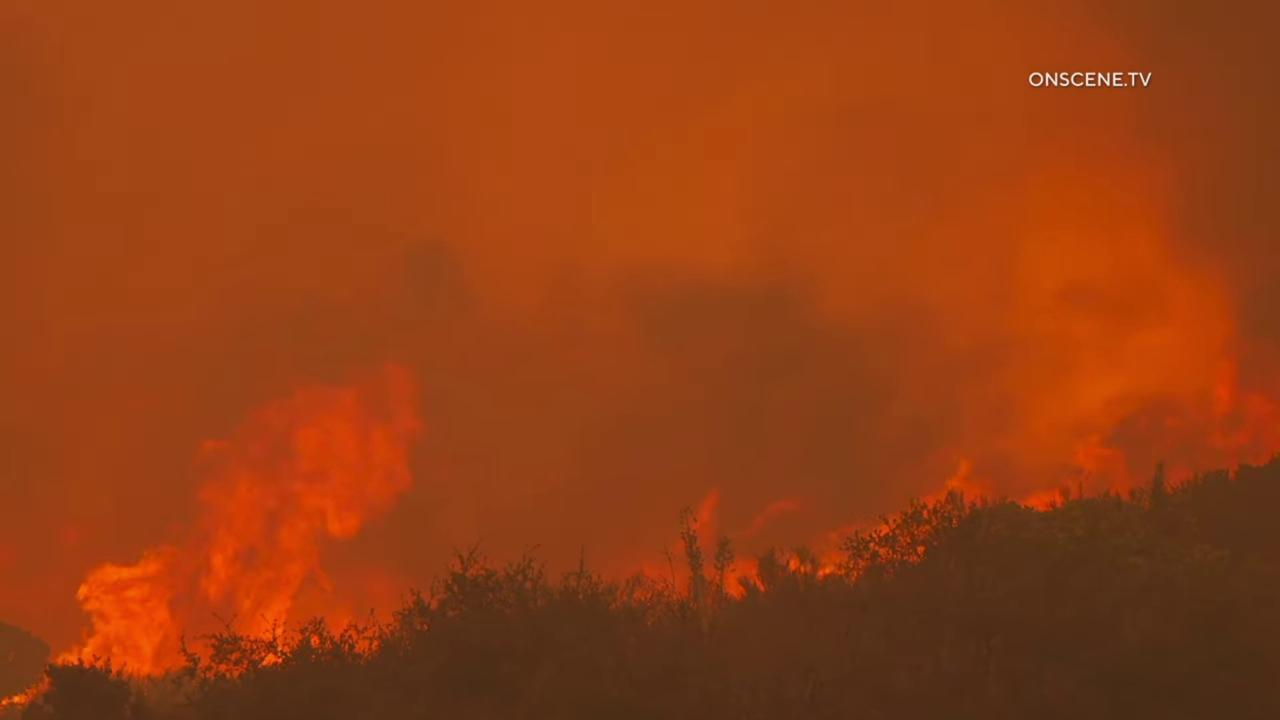fire: (0, 358, 447, 708), (615, 454, 1002, 621), (1010, 356, 1280, 517)
smoke: (0, 0, 1280, 720)
